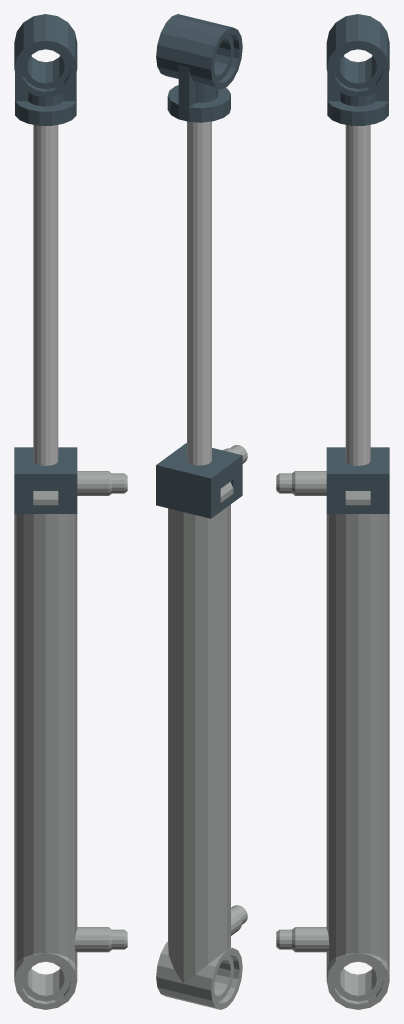
The picture shows the model from 3 angles, left to right: view 1: azimuth 90°, elevation 25°; view 2: azimuth 150°, elevation 25°; view 3: azimuth 270°, elevation 25°; orthographic projection.
Parts seen in each view (by area): view 1: world; view 2: world; view 3: world.
Boxes of the visible parts, bbox=[...] form: world: bbox=[14, 14, 127, 1009]; world: bbox=[156, 14, 247, 1009]; world: bbox=[276, 14, 389, 1009].
Bounding box in the file's own units: 0.008 × 0.136 × 0.0144.
